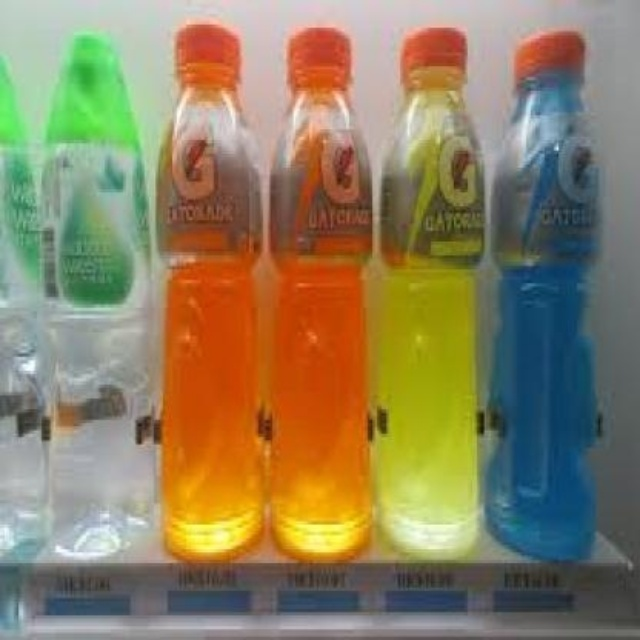trash: (486, 31, 597, 560), (42, 32, 151, 557), (377, 28, 483, 558), (157, 25, 262, 560), (271, 28, 371, 560), (0, 57, 45, 558)
